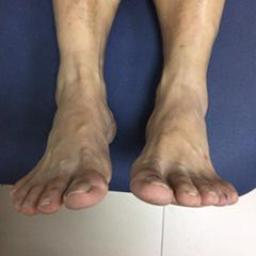Front View -Both Feet-: (6, 47, 250, 231)
